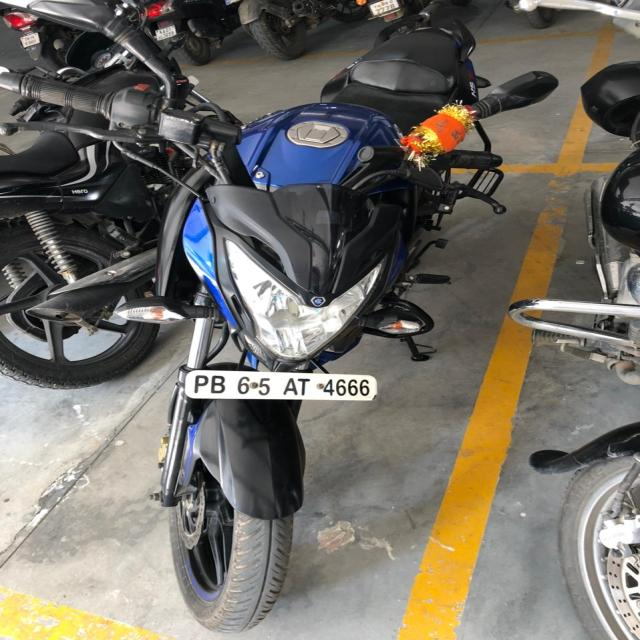number plate: (190, 370, 375, 401), (367, 0, 401, 17)
